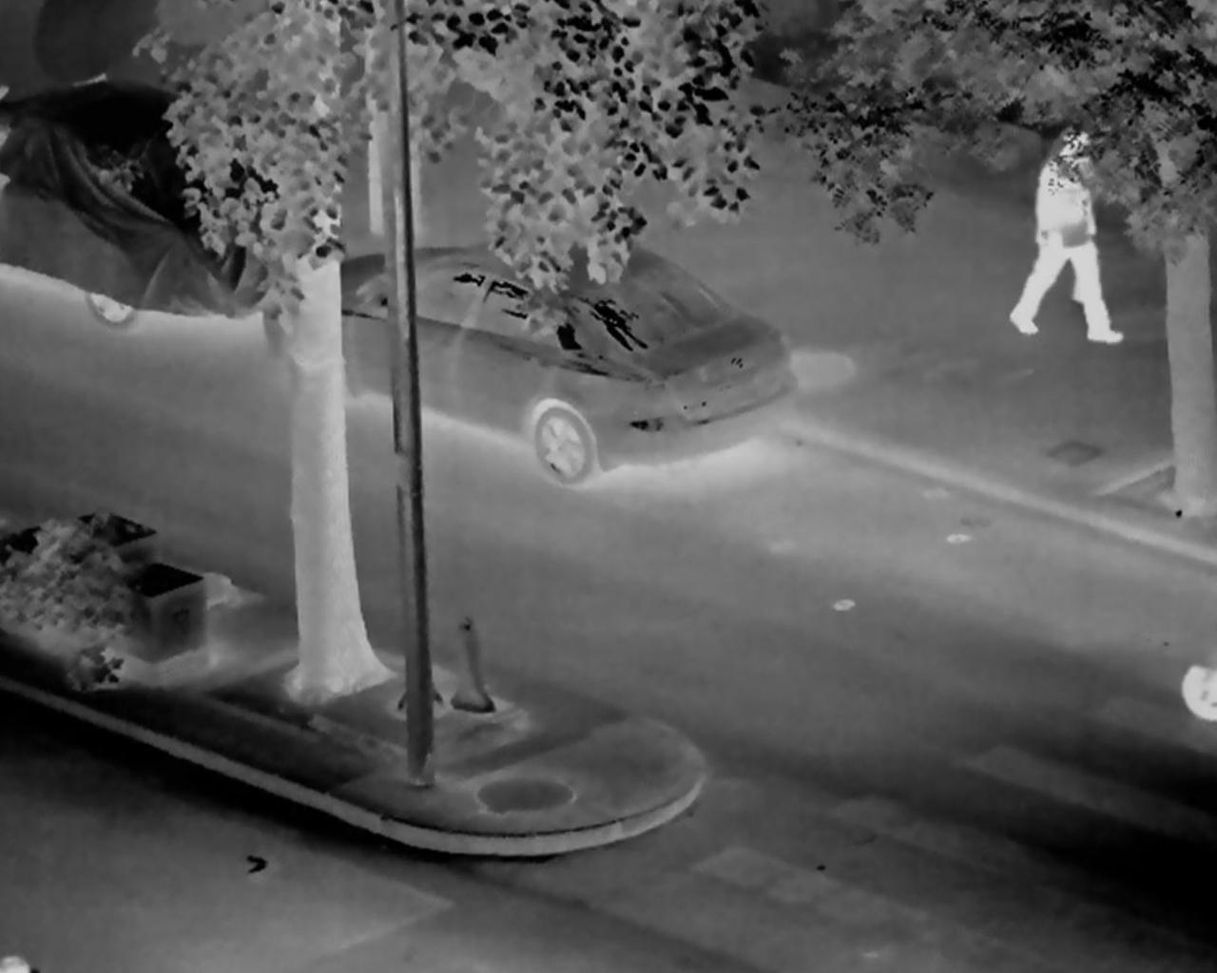person: (1004, 108, 1115, 351)
